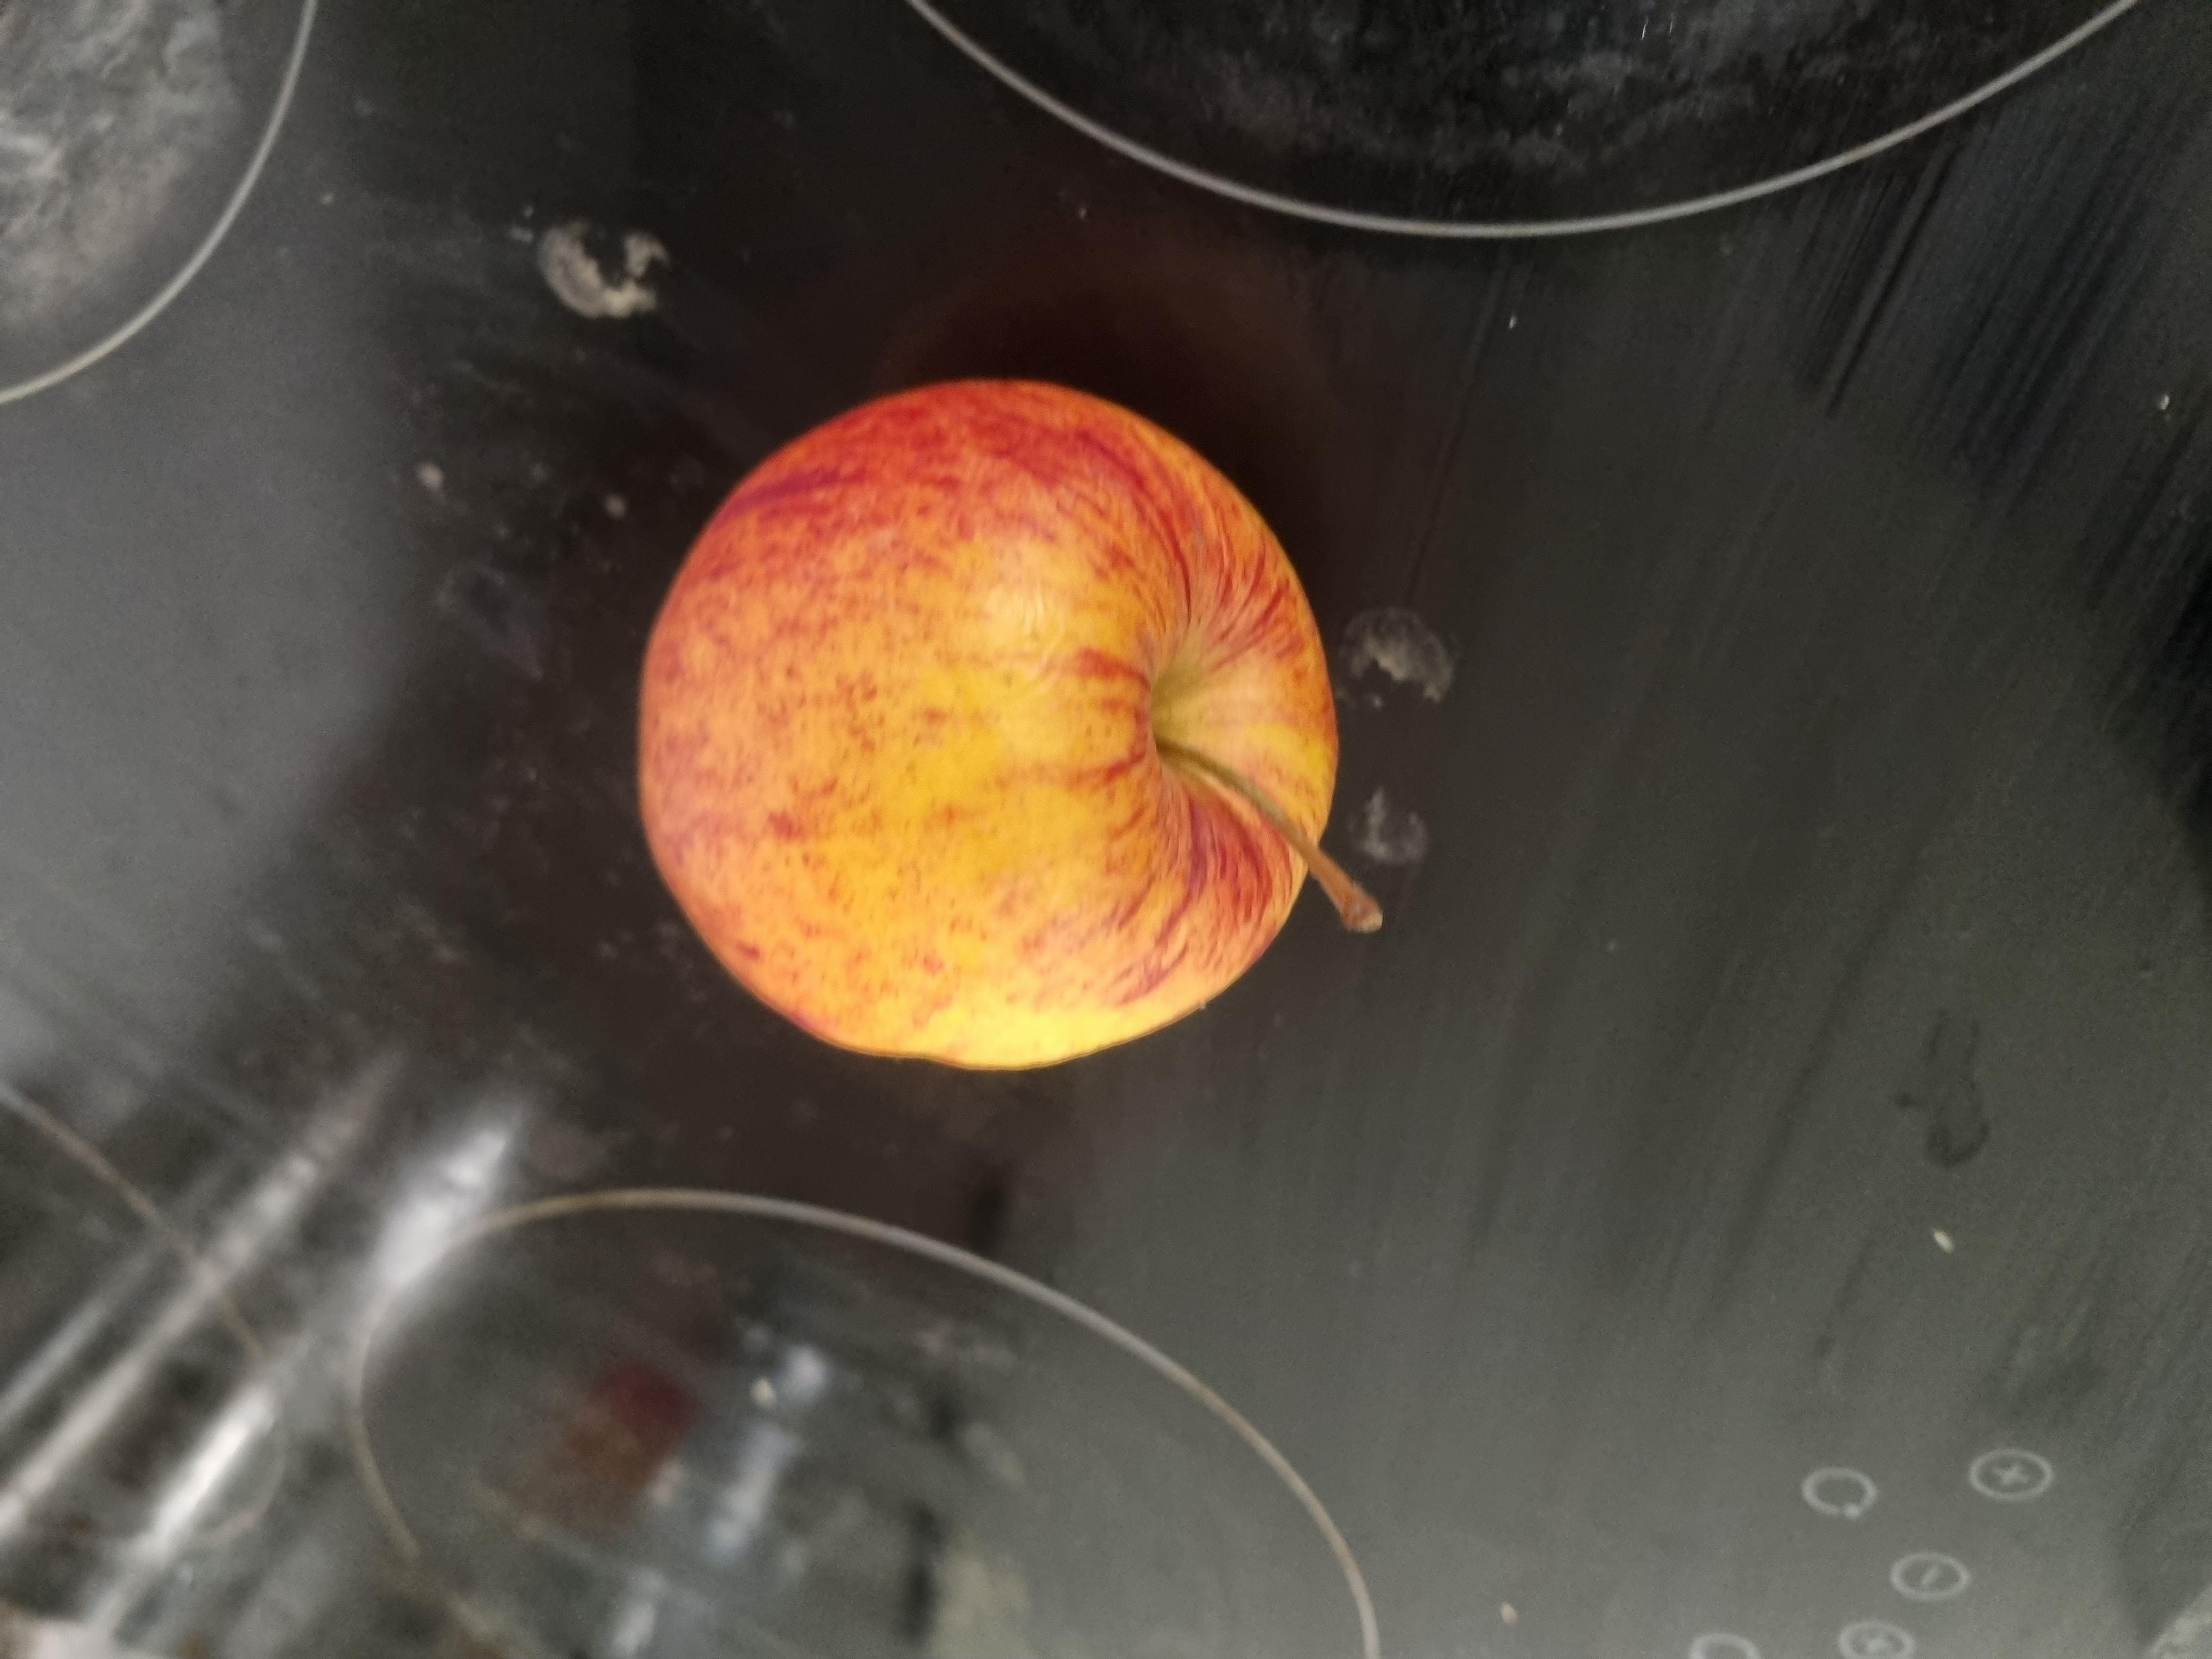Apple: (627, 362, 1400, 1117)
